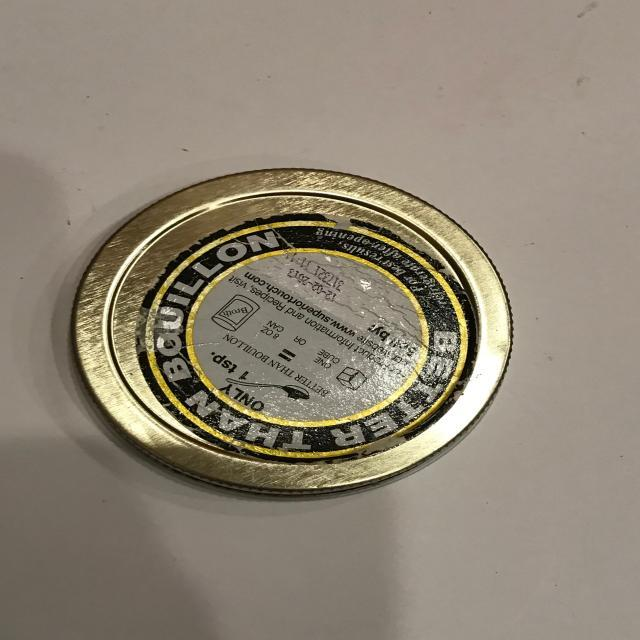metal: (73, 166, 515, 494)
